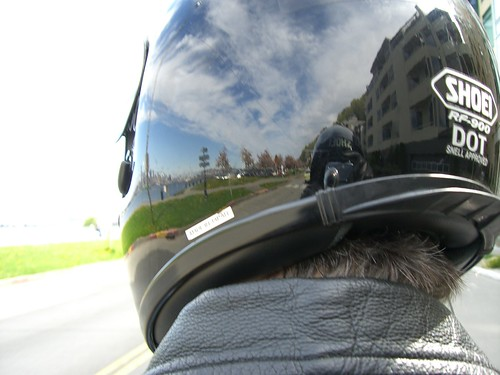helmet: (95, 0, 498, 347)
